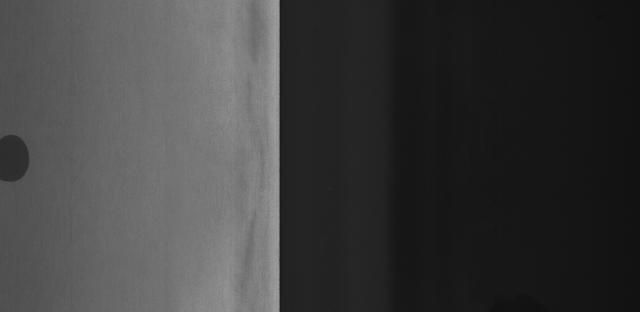oil_spot: (0, 118, 46, 194)
